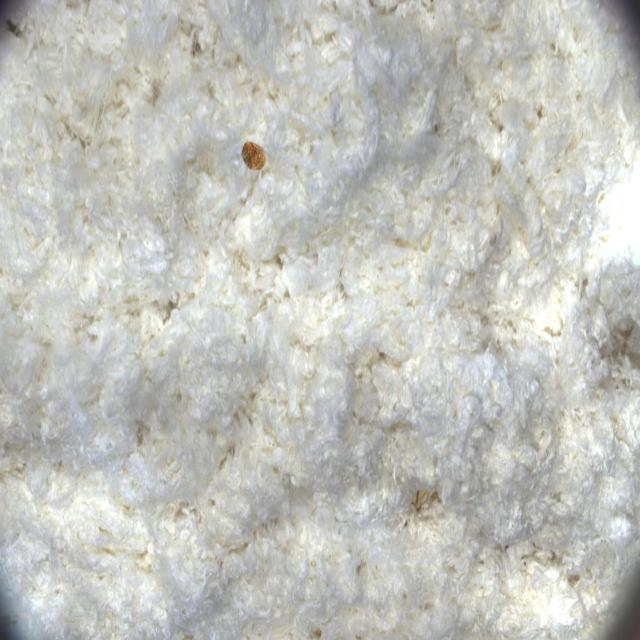dust: (231, 129, 281, 185)
